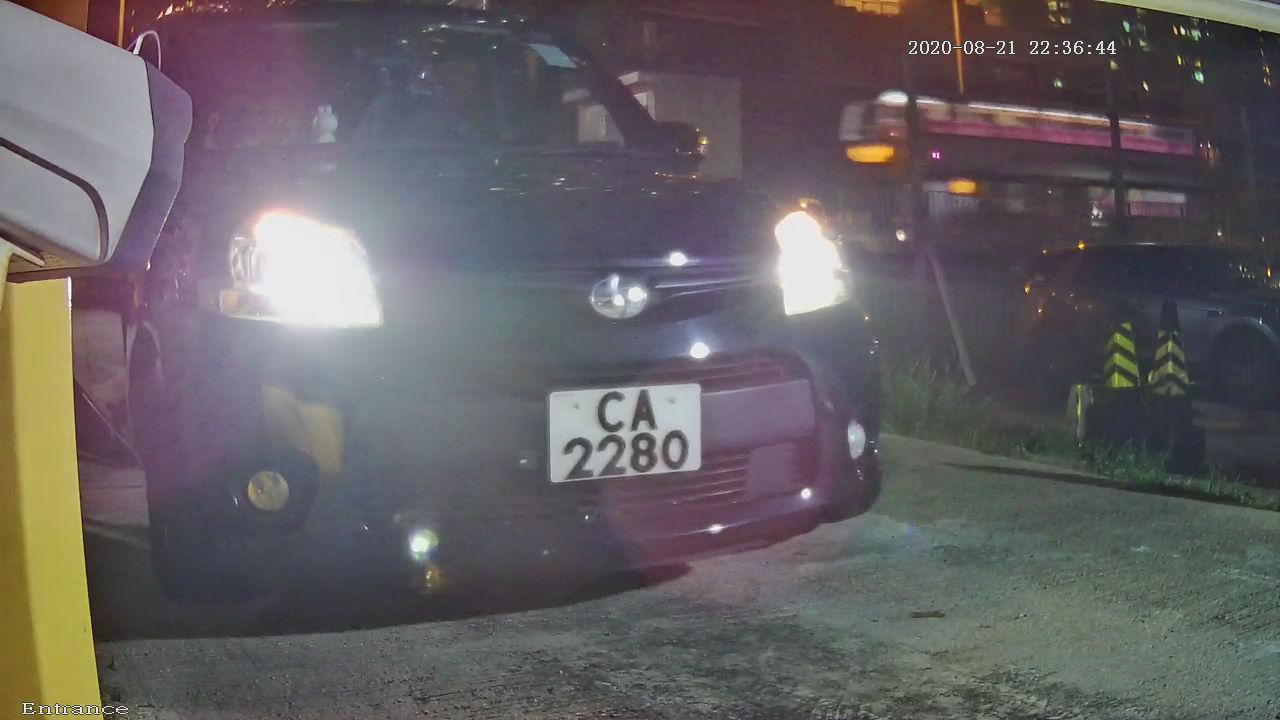Car: (6, 7, 955, 653)
License Plate: (526, 370, 721, 502)
